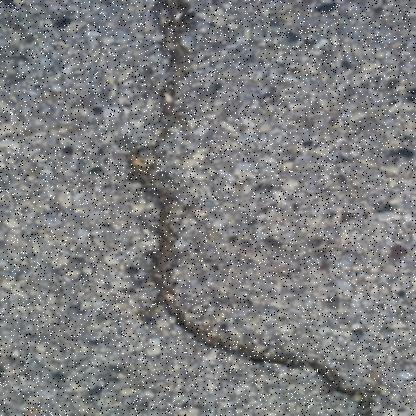Cracks: (115, 0, 396, 415)
